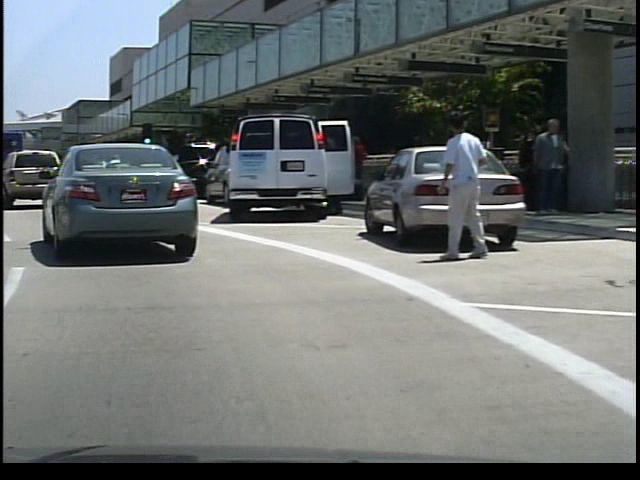person: (432, 106, 487, 263), (523, 116, 564, 217), (343, 130, 368, 202)
